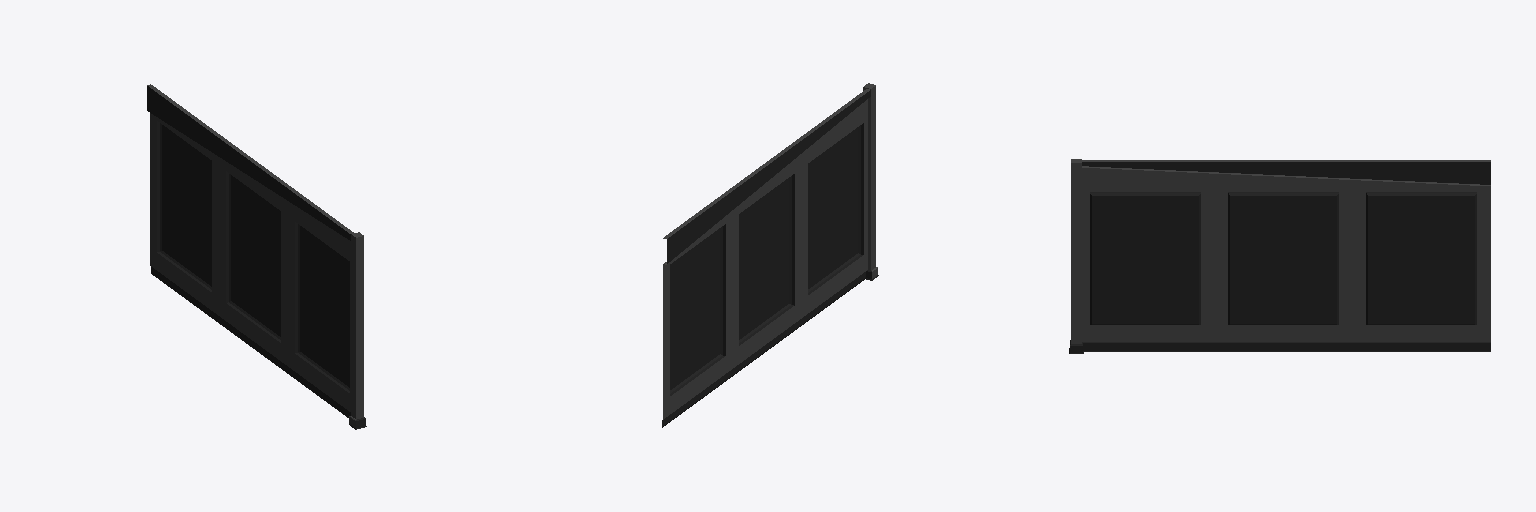
File: wall1.obj
The picture shows the model from 3 angles: view 1: azimuth 30°, elevation 25°; view 2: azimuth 150°, elevation 25°; view 3: azimuth 270°, elevation 25°; orthographic projection.
Parts seen in each view (by area): view 1: Cube.015_Cube.024; view 2: Cube.015_Cube.024; view 3: Cube.015_Cube.024.
Part boxes in pixels (bbox=[...]): Cube.015_Cube.024: bbox=[147, 84, 366, 429]; Cube.015_Cube.024: bbox=[662, 83, 878, 427]; Cube.015_Cube.024: bbox=[1069, 159, 1490, 353].
Bounding box in the file's own units: 0.189 × 3 × 6.